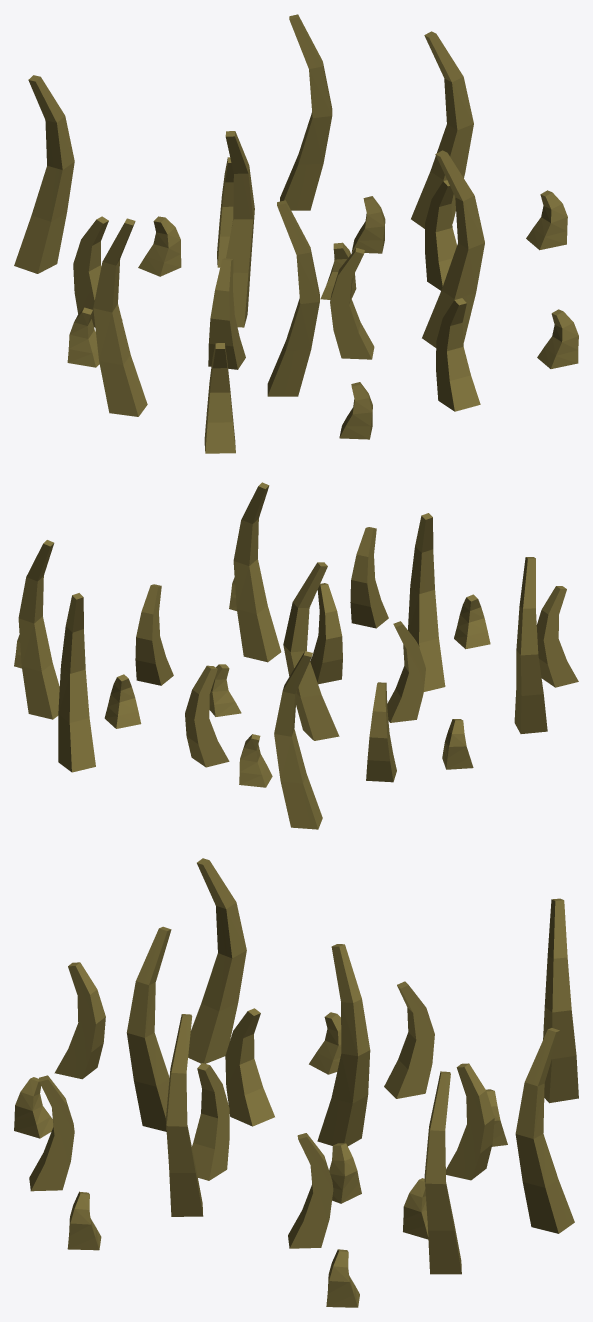
Rendered from Grass1.fbx.
3 views of the same model, one above another, from view 1: azimuth 30°, elevation 25°; view 2: azimuth 150°, elevation 25°; view 3: azimuth 270°, elevation 25° (orthographic). The views are drawn at different scales.
Parts seen in each view (by area): view 1: Cube.008; view 2: Cube.008; view 3: Cube.008.
Boxes of the visible parts, x1,y1,x2,y2 form: Cube.008: [14, 14, 578, 453]; Cube.008: [14, 482, 578, 829]; Cube.008: [14, 858, 578, 1307].
Bounding box in the file's own units: 212 × 73.3 × 192.
